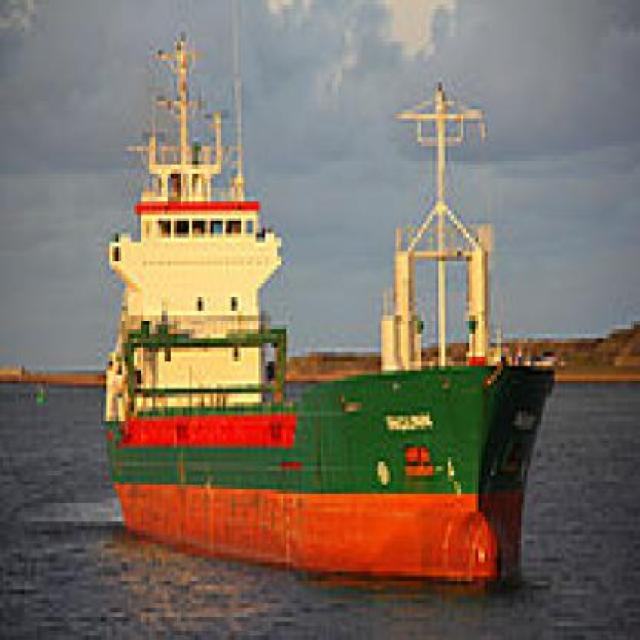container: (86, 1, 569, 601)
